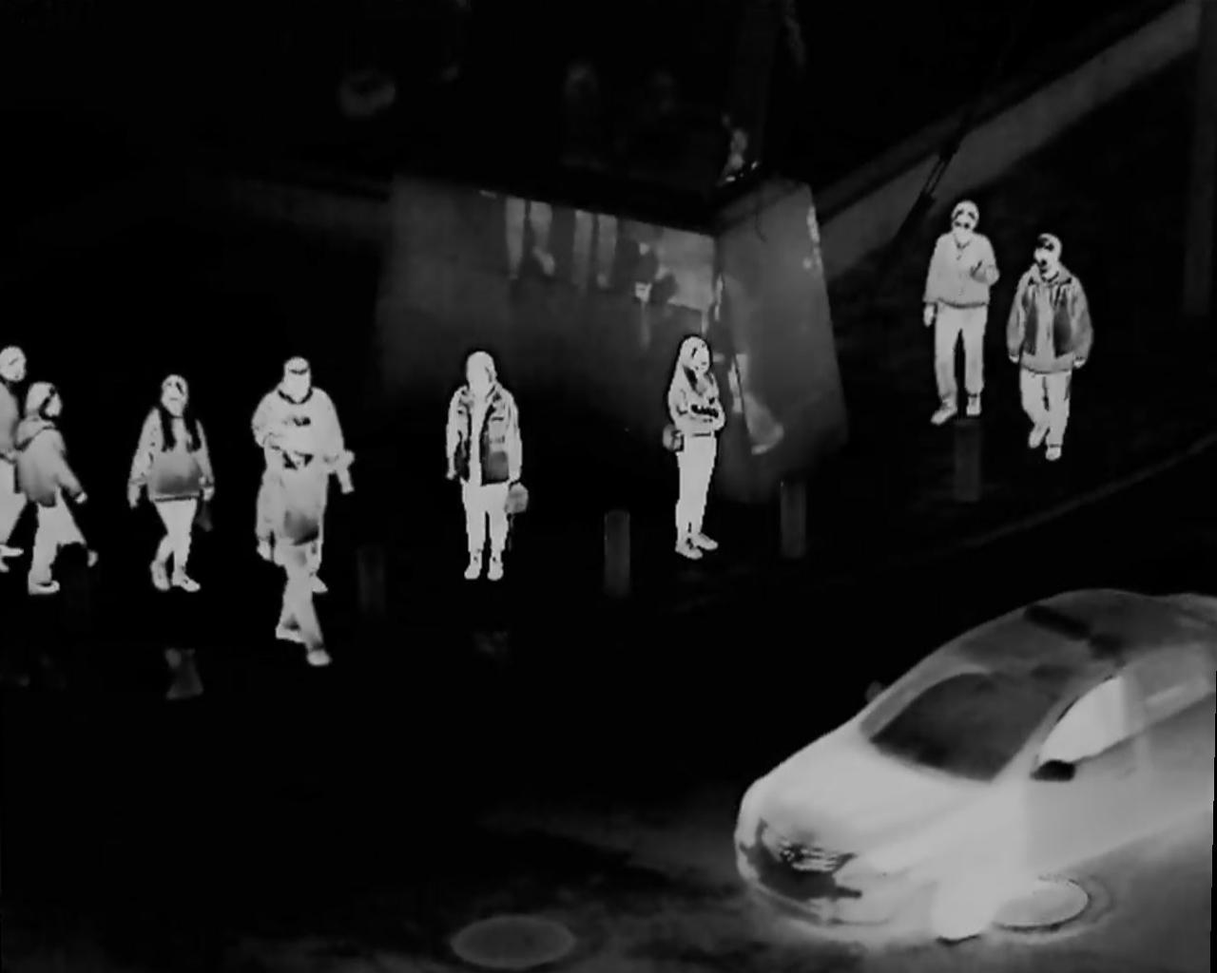person: (252, 354, 338, 662), (443, 345, 533, 587), (1010, 234, 1092, 472), (916, 200, 998, 423), (131, 375, 212, 595), (13, 378, 93, 592), (666, 336, 723, 558)
